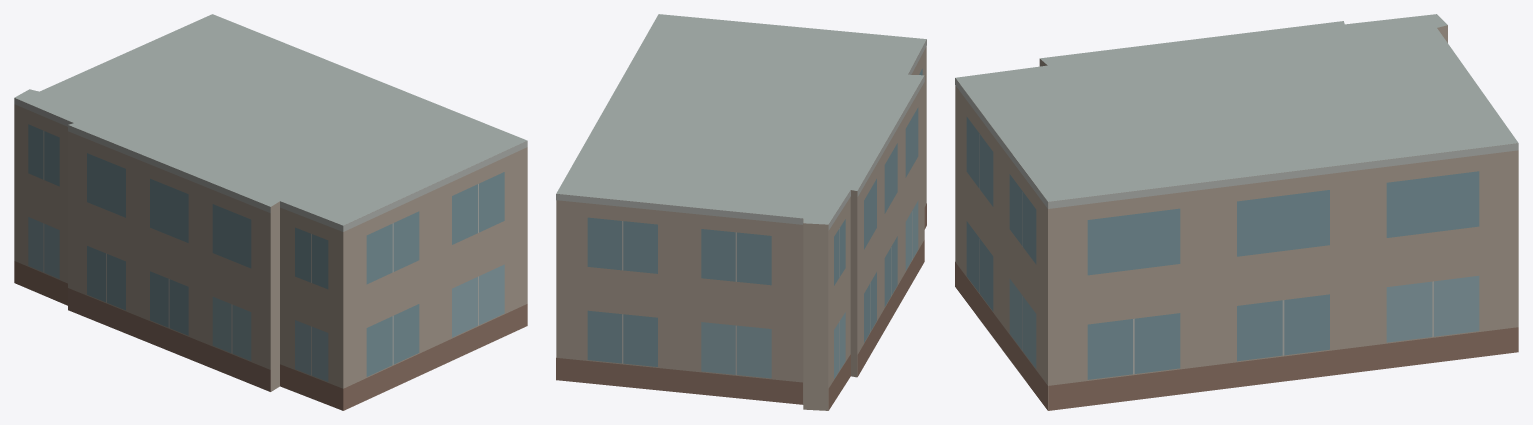
File: survey-upis-32756976.glb
The picture shows the model from 3 angles, left to right: view 1: azimuth 30°, elevation 25°; view 2: azimuth 150°, elevation 25°; view 3: azimuth 270°, elevation 25°; orthographic projection. The views are drawn at different scales.
Visible parts, largest first — view 1: survey-upis-32756976.tmp; view 2: survey-upis-32756976.tmp; view 3: survey-upis-32756976.tmp.
Boxes of the visible parts, x1,y1,x2,y2 form: survey-upis-32756976.tmp: [14, 14, 527, 410]; survey-upis-32756976.tmp: [556, 14, 926, 410]; survey-upis-32756976.tmp: [955, 14, 1518, 410].
Size of the model in its own units: 13.7 by 7.1 by 17.36.
